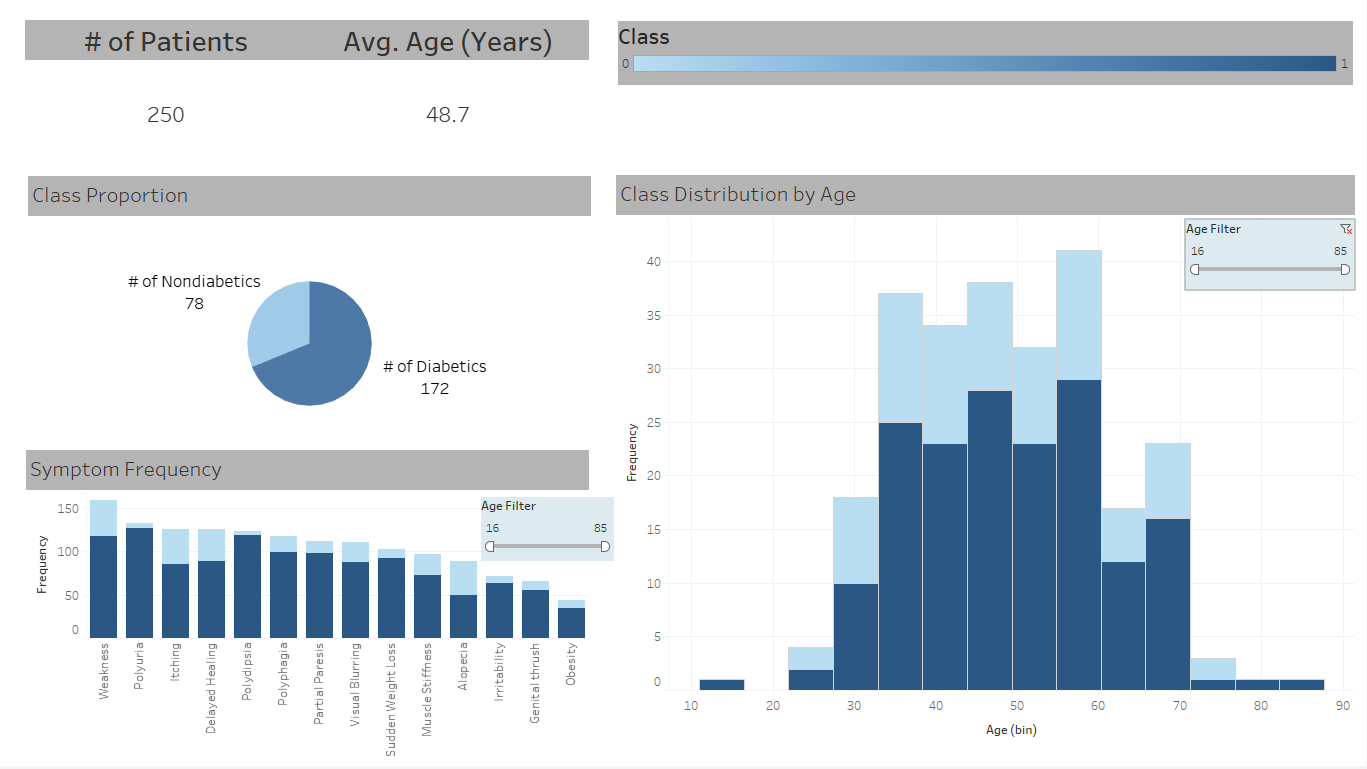

Layout of this report page (visuals, bound fields, positions):
{"tool":"tableau","page":{"name":"Obesity Dashboard","canvas":[1366,768],"ordinal":0},"visuals":[{"type":"worksheet","title":"KPIs","mark":"Automatic","box":[25,22,580,152]},{"type":"legend","title":"Class Distribution by Age","param":"[federated.1mhl69418klu4g15ut1tz0kq9lna].[none:class:qk]","box":[618,23,735,64]},{"type":"worksheet","title":"Class Distribution by Age","mark":"Bar","rows":["Age"],"cols":["Age (bin)"],"box":[616,177,739,570]},{"type":"worksheet","title":"Class Proportion","mark":"Pie","box":[28,178,563,292]},{"type":"filter","title":"Class Distribution by Age","param":"[federated.1mhl69418klu4g15ut1tz0kq9lna].[none:Age:qk]","box":[1186,222,168,69]},{"type":"worksheet","title":"Symptom Frequency","mark":"Automatic","box":[26,452,563,308]},{"type":"filter","title":"Symptom Frequency","param":"[federated.1mhl69418klu4g15ut1tz0kq9lna].[none:Age:qk]","box":[481,499,133,64]}]}

Visuals, with their boxes in screenshot pixels (x1, y1, x2, y2), scaled from the page's 1366x768 canvas onto the 1367x769 screenshot:
"KPIs" worksheet: rect(25, 22, 605, 174)
"Class Distribution by Age" legend: rect(618, 23, 1354, 87)
"Class Distribution by Age" worksheet (Bar marks): rect(616, 177, 1356, 748)
"Class Proportion" worksheet (Pie marks): rect(28, 178, 591, 471)
"Class Distribution by Age" filter: rect(1187, 222, 1355, 291)
"Symptom Frequency" worksheet: rect(26, 453, 589, 761)
"Symptom Frequency" filter: rect(481, 500, 614, 564)
